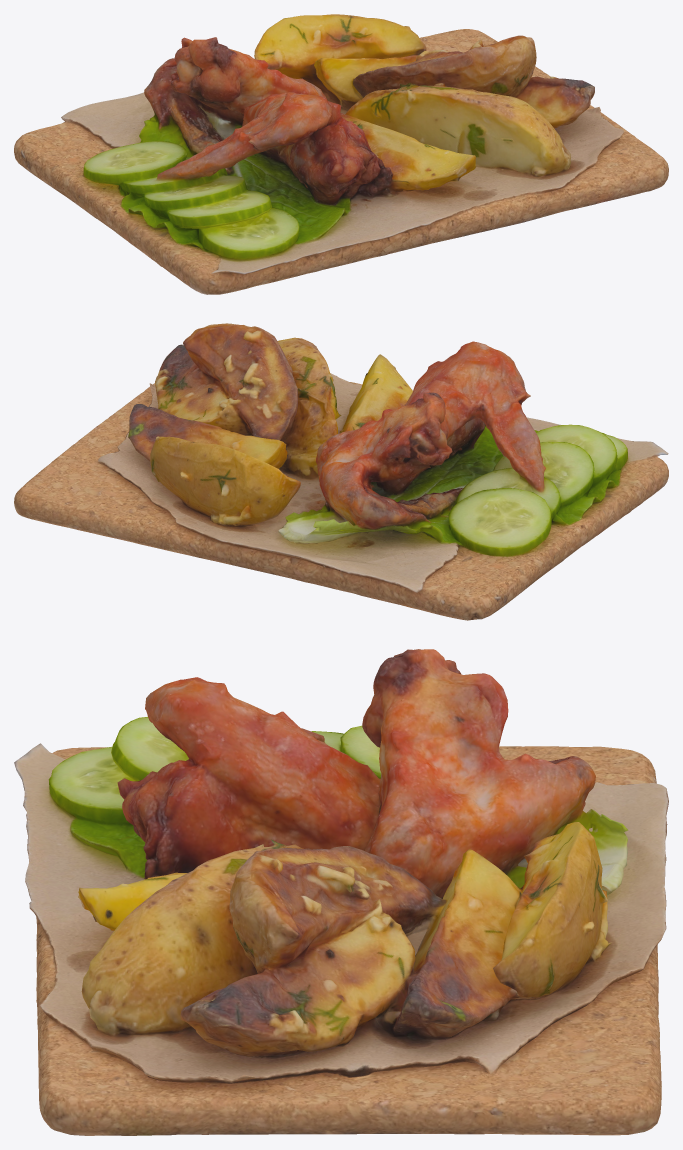
The model's file is chicken_and_potatoes.glb.
3 views of the same model, one above another, from view 1: azimuth 30°, elevation 25°; view 2: azimuth 150°, elevation 25°; view 3: azimuth 270°, elevation 25° (orthographic). The views are drawn at different scales.
Parts seen in each view (by area): view 1: chicken and potatoes LP_0; view 2: chicken and potatoes LP_0; view 3: chicken and potatoes LP_0.
Part boxes in pixels (x1,y1,x2,y2): chicken and potatoes LP_0: (14,14,668,294); chicken and potatoes LP_0: (14,323,668,620); chicken and potatoes LP_0: (14,649,668,1135).
Size of the model in its own units: 0.1982 by 0.0575 by 0.1515.
1 material, 1 textured.
